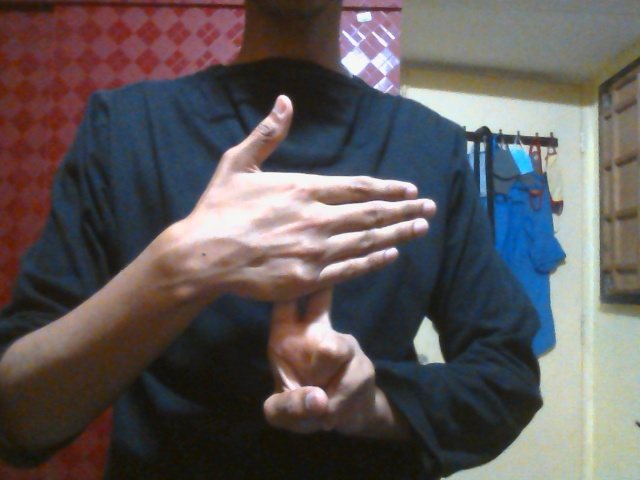N: (188, 94, 436, 440)
